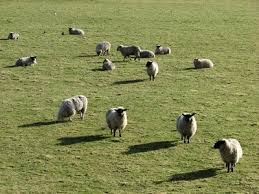sheep: (211, 135, 245, 174), (53, 93, 88, 125), (103, 107, 128, 140), (174, 110, 198, 143), (118, 41, 142, 65), (189, 56, 218, 72), (95, 33, 113, 57), (12, 52, 38, 68), (144, 59, 161, 83), (136, 47, 162, 62), (99, 53, 114, 75), (67, 24, 89, 39), (4, 27, 21, 43), (154, 42, 171, 56)
